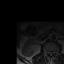CCS_normal: (50, 50, 52, 57)
LFS_stenosis: (54, 49, 56, 54)
LLS_stenosis: (52, 49, 54, 55)
RFS_normal: (46, 49, 48, 54)
RLS_normal: (48, 49, 50, 55)
